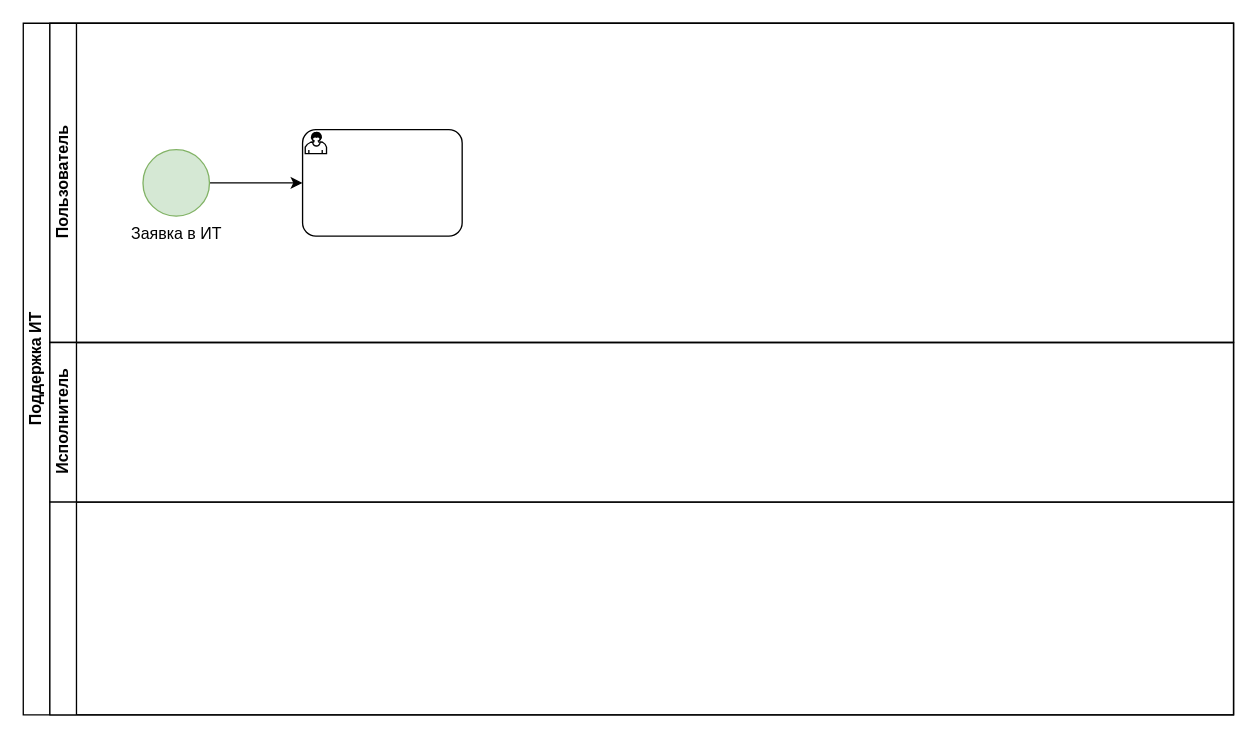
This 1257x738 diagram has some shape labels left out. The centre of each missing label's shape, as x and y in pixels:
Lane 3: the point at 641,608
Оформить Заявку в ИТ: the point at 381,182
